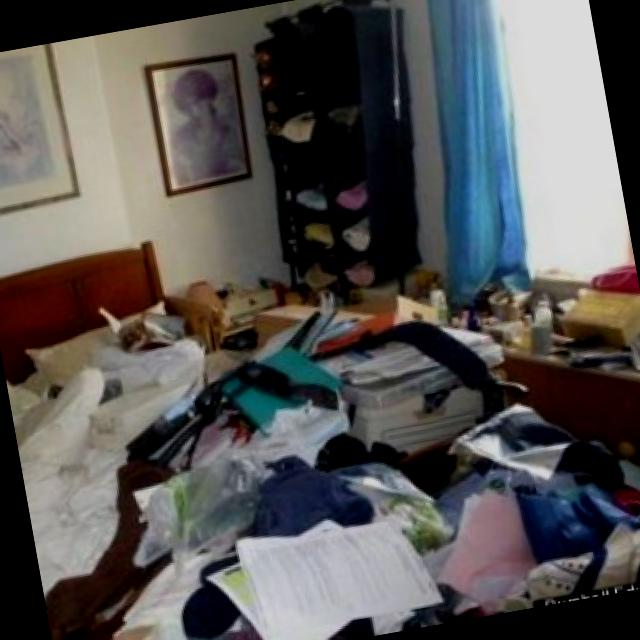mess: (0, 272, 363, 553), (197, 433, 640, 640), (302, 257, 590, 483), (404, 197, 640, 423), (68, 543, 240, 640)
